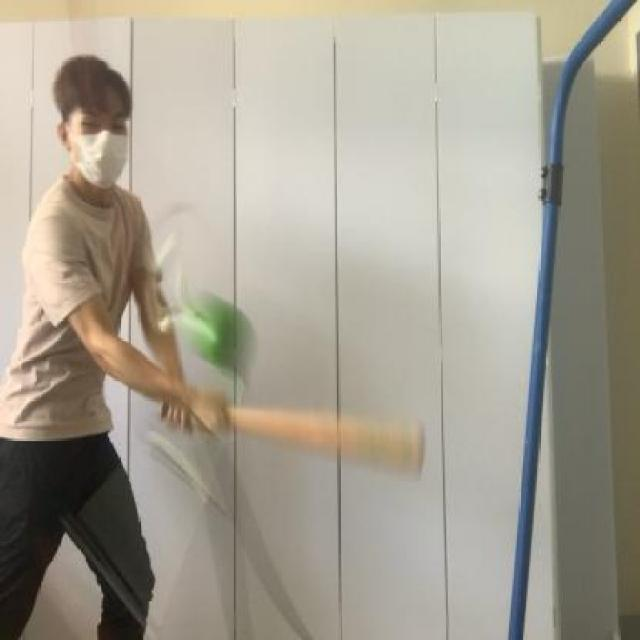baseball: (169, 272, 263, 388)
